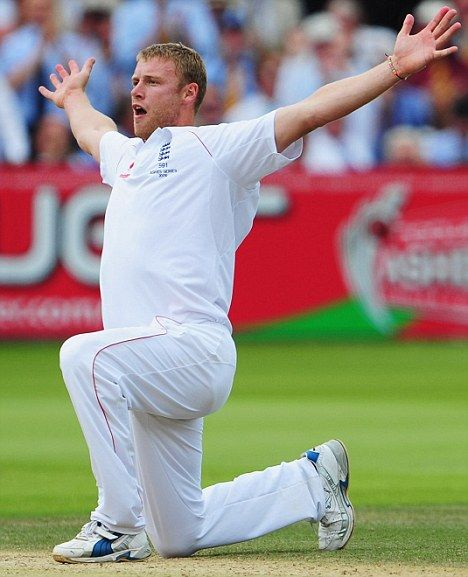NoMask: (130, 72, 172, 134)
